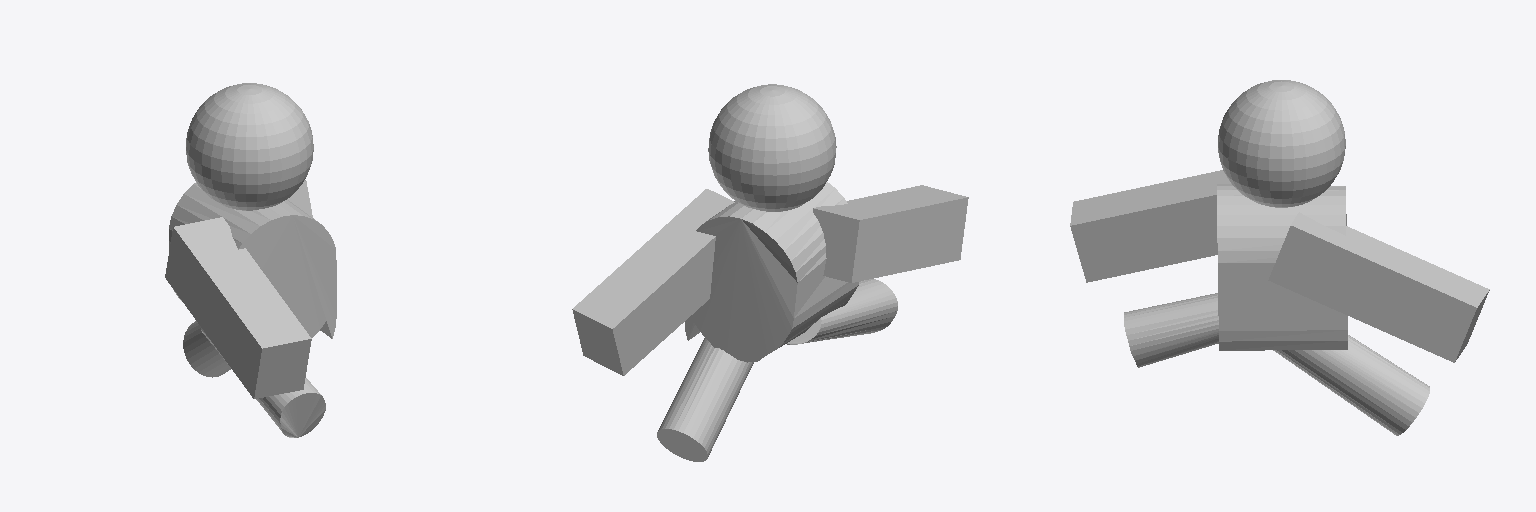
Rendered from Figurine123.obj.
3 renders of one model, left to right at view 1: azimuth 30°, elevation 25°; view 2: azimuth 150°, elevation 25°; view 3: azimuth 270°, elevation 25°, orthographic.
Parts seen in each view (by area): view 1: Cylinder; view 2: Cylinder; view 3: Cylinder.
Part boxes in pixels (bbox=[...]): Cylinder: bbox=[165, 83, 336, 437]; Cylinder: bbox=[572, 84, 968, 461]; Cylinder: bbox=[1070, 80, 1489, 435].
Bounding box in the file's own units: 3.49 × 5.76 × 6.53.